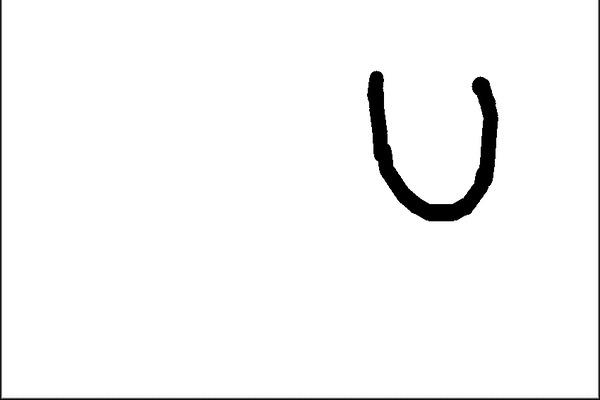U: (354, 56, 508, 222)
